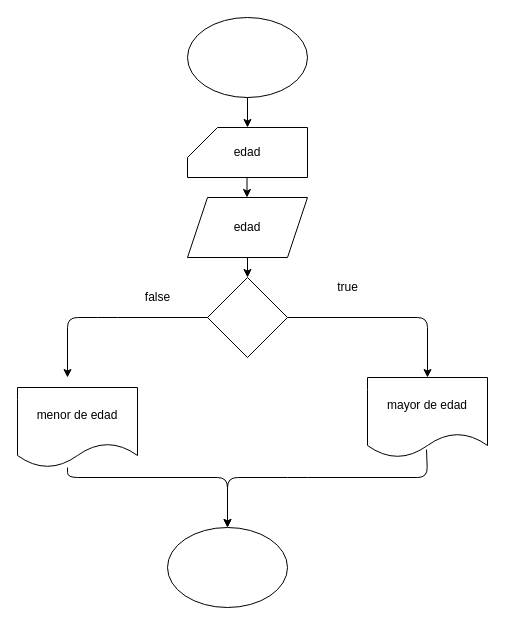
The diagram is 505 pixels wide and 625 high, and some of its shapes have lost their labels. The centre of each missing label's shape, as x and y in pixels:
edad >=18: the point at 247,317
Inicio: the point at 247,57
